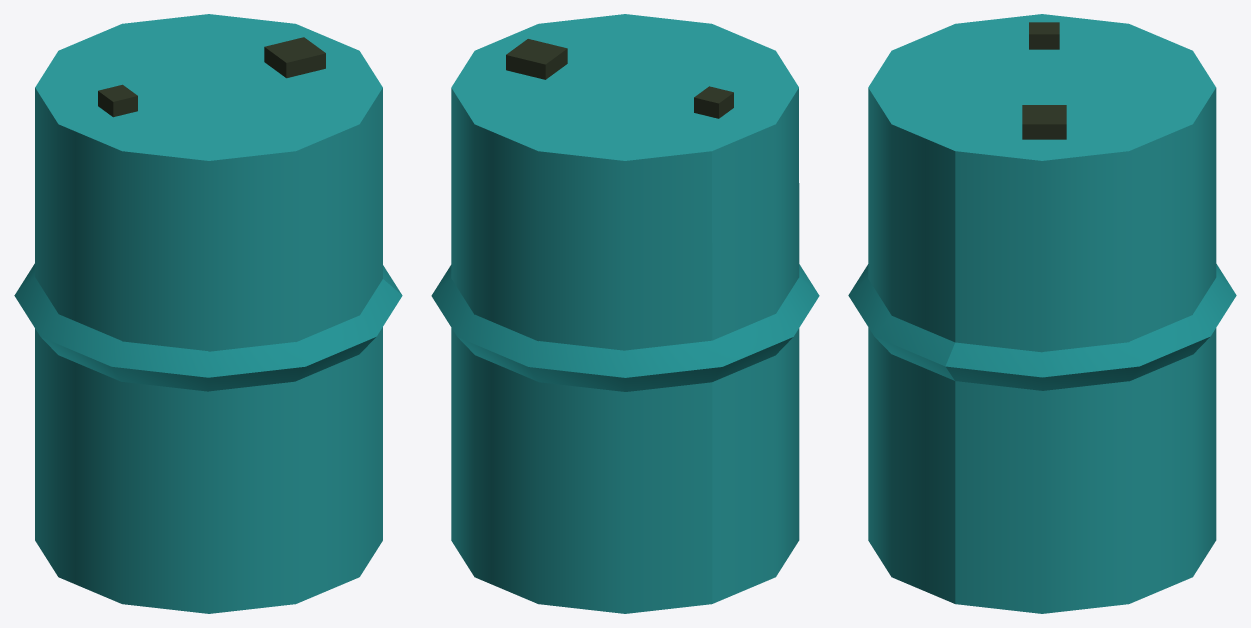
Rendered from barrel_metal2.fbx.
The picture shows the model from 3 angles, left to right: view 1: azimuth 30°, elevation 25°; view 2: azimuth 150°, elevation 25°; view 3: azimuth 270°, elevation 25°; orthographic projection.
Parts seen in each view (by area): view 1: barrel_metal2; view 2: barrel_metal2; view 3: barrel_metal2.
Part boxes in pixels (x1,y1,x2,y2): barrel_metal2: (14,14,402,613); barrel_metal2: (431,14,819,613); barrel_metal2: (848,14,1236,613).
Bounding box in the file's own units: 90.17 × 120 × 90.22.
